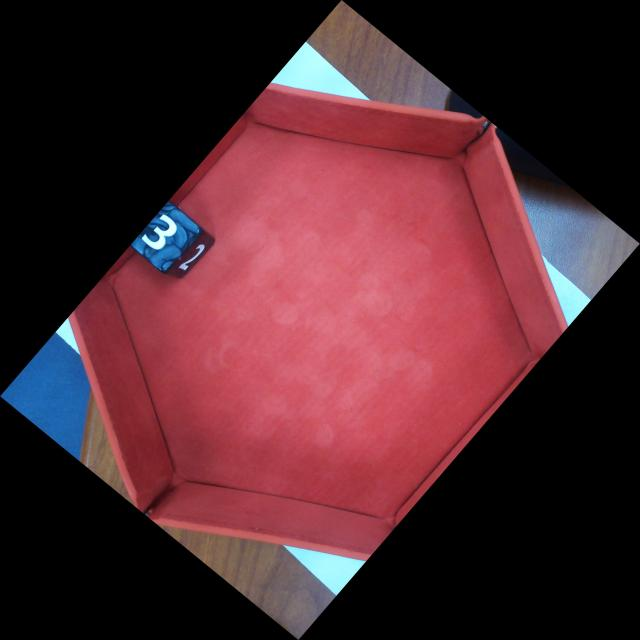dice: (127, 197, 206, 278)
